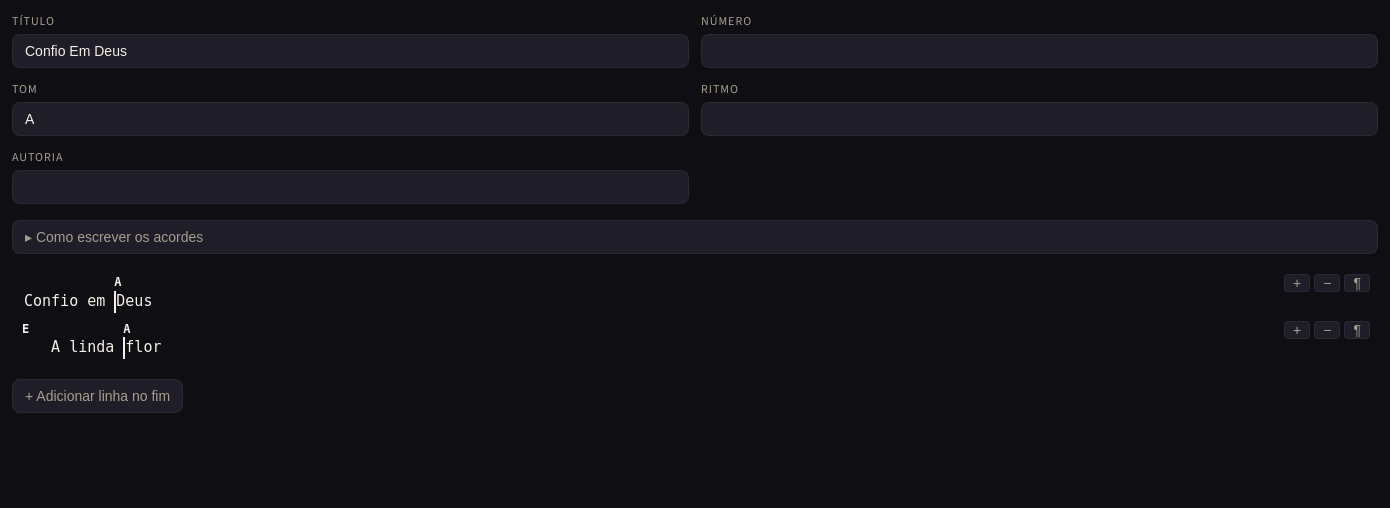
Test: confirmar não engole o que foi digitado › voltar a digitar tira o aviso do caminho
The width and height of the screenshot is (1390, 508).
Click the text "Confio em" at (68, 302), box left=22, top=291, right=114, bottom=313
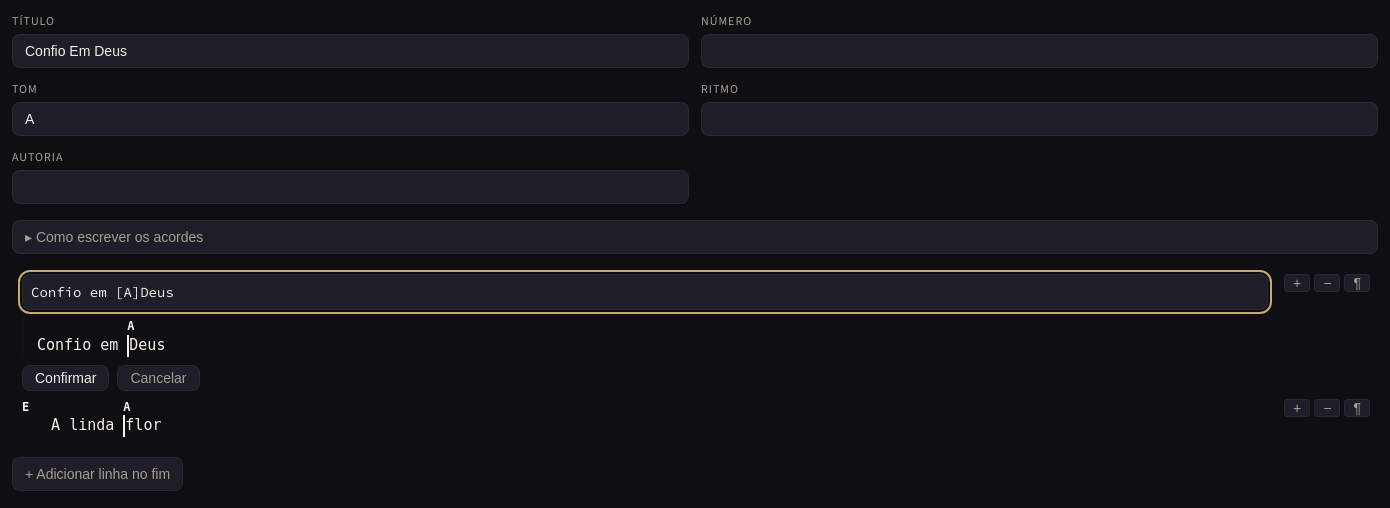
Clear the field named "linha" at (645, 292), box left=22, top=274, right=1268, bottom=310
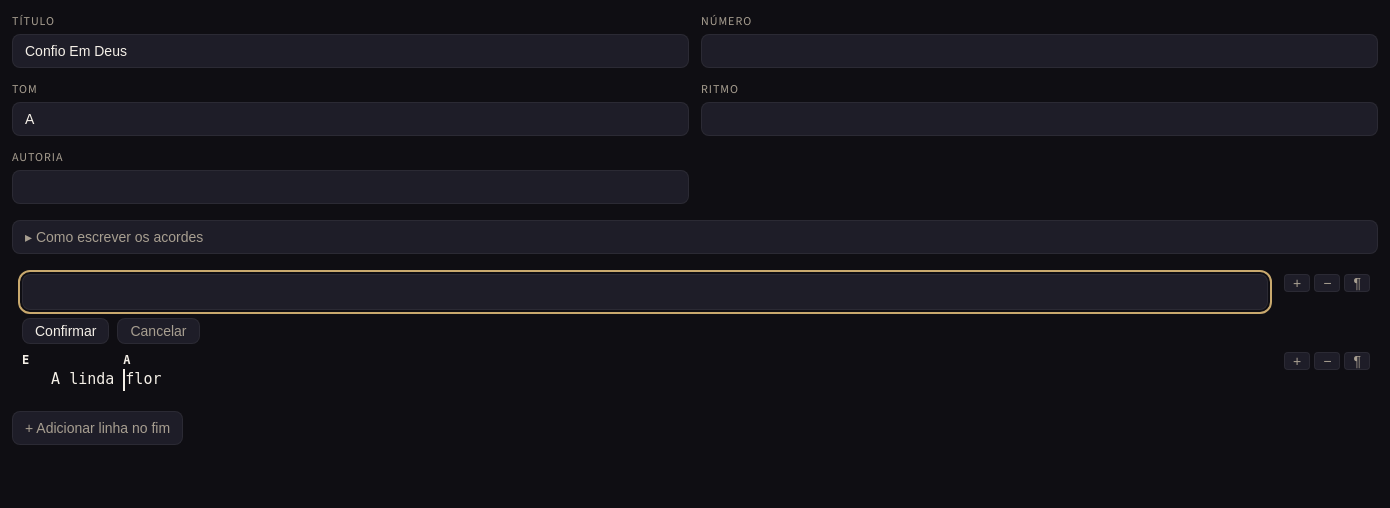
Click the button "Confirmar" at (66, 331), box left=22, top=318, right=110, bottom=344
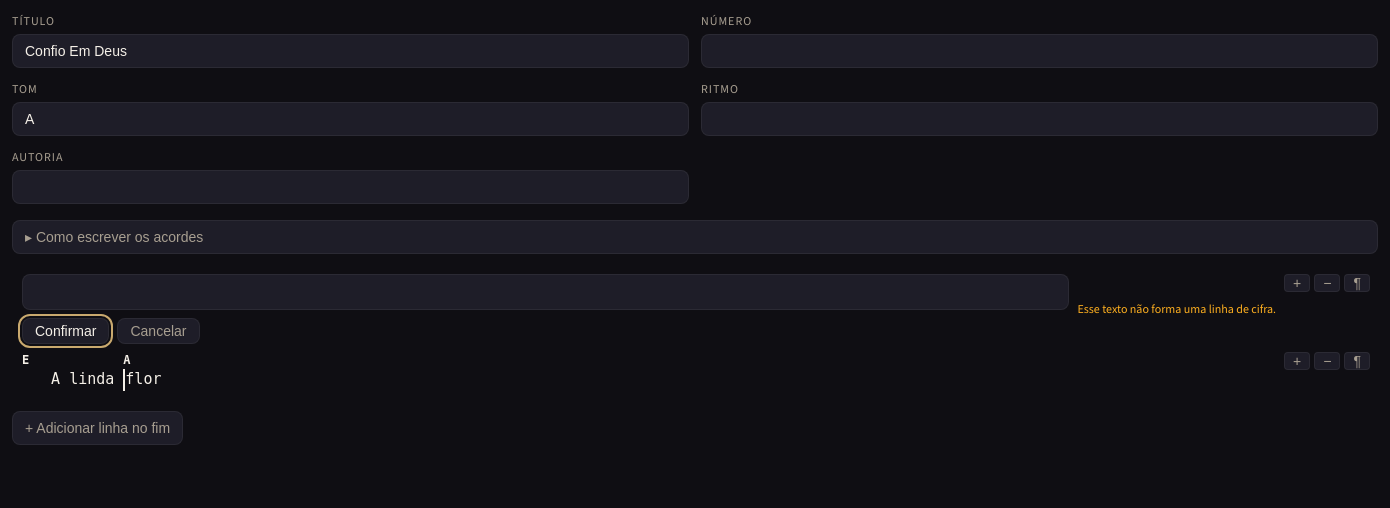
expect the text "Esse texto não forma uma linha de cifra." is shown: met, box left=1078, top=300, right=1276, bottom=318
Type "a" into the field named "linha" at (546, 292), box left=22, top=274, right=1070, bottom=310
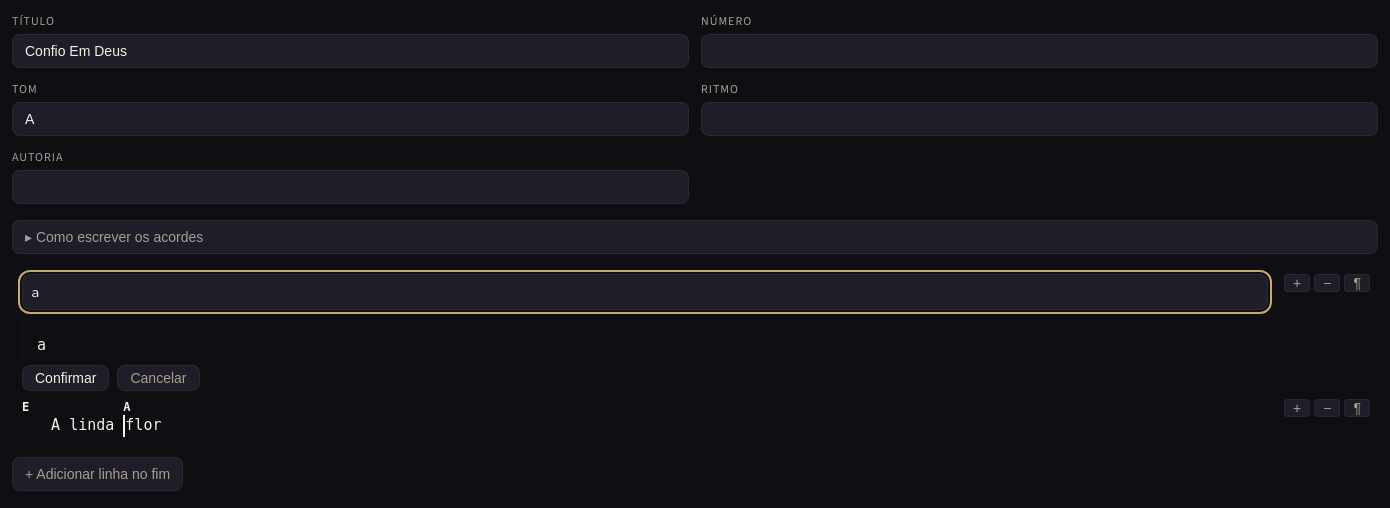
expect the text "não forma uma linha de cifra" is gone: met
